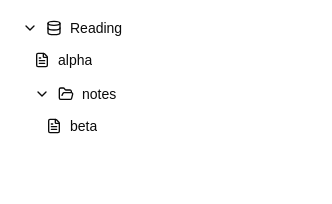
Test: NotesTree › opens a context menu with create, rename and delete on right click
The width and height of the screenshot is (332, 204).
Right-click the link "alpha" at (63, 60), box [34, 52, 92, 68]
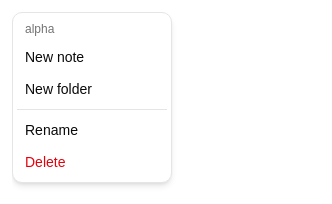
Expected: the menu is shown, [12, 12, 172, 183]
Expected: the button "New note" is shown, [17, 41, 167, 73]
Expected: the button "New folder" is shown, [17, 73, 167, 105]
